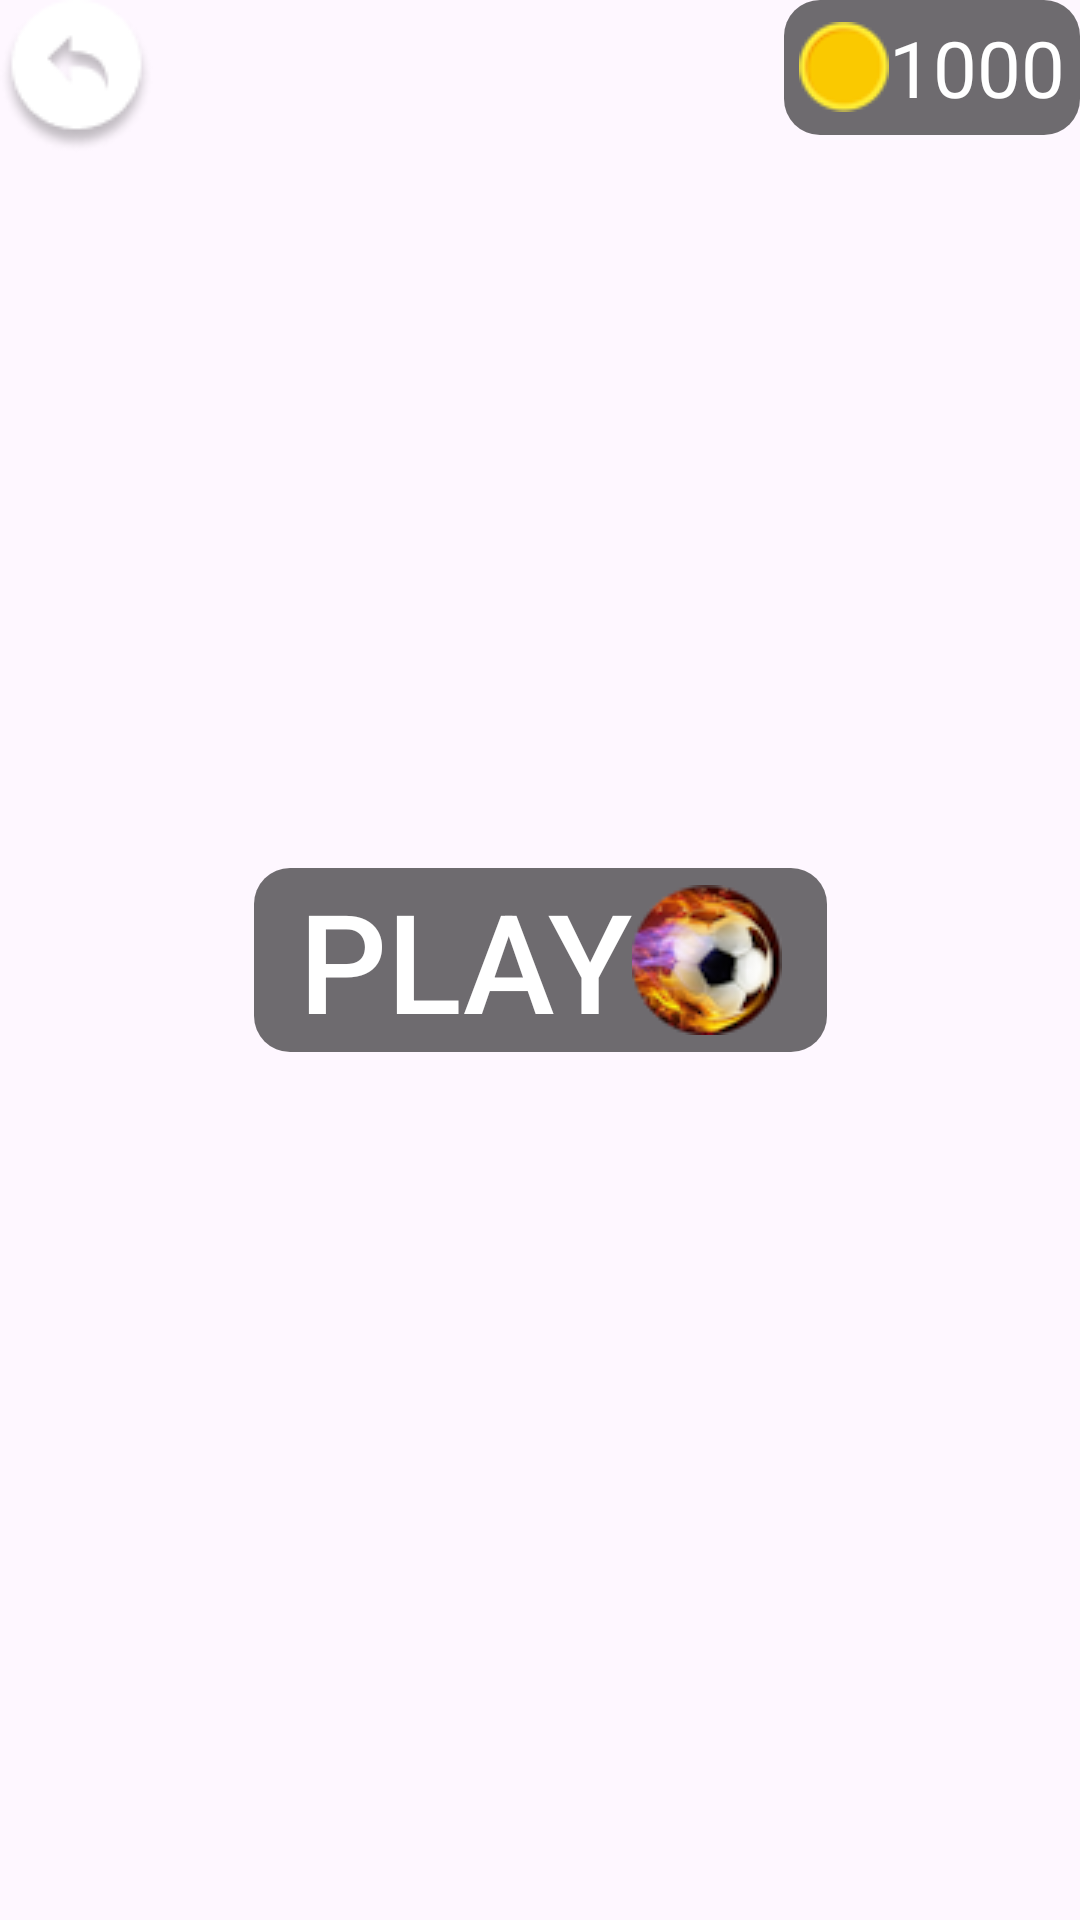

Point at icon controls on the screen. Image size 1080*1920, points as (x,y).
back: (76,73)
